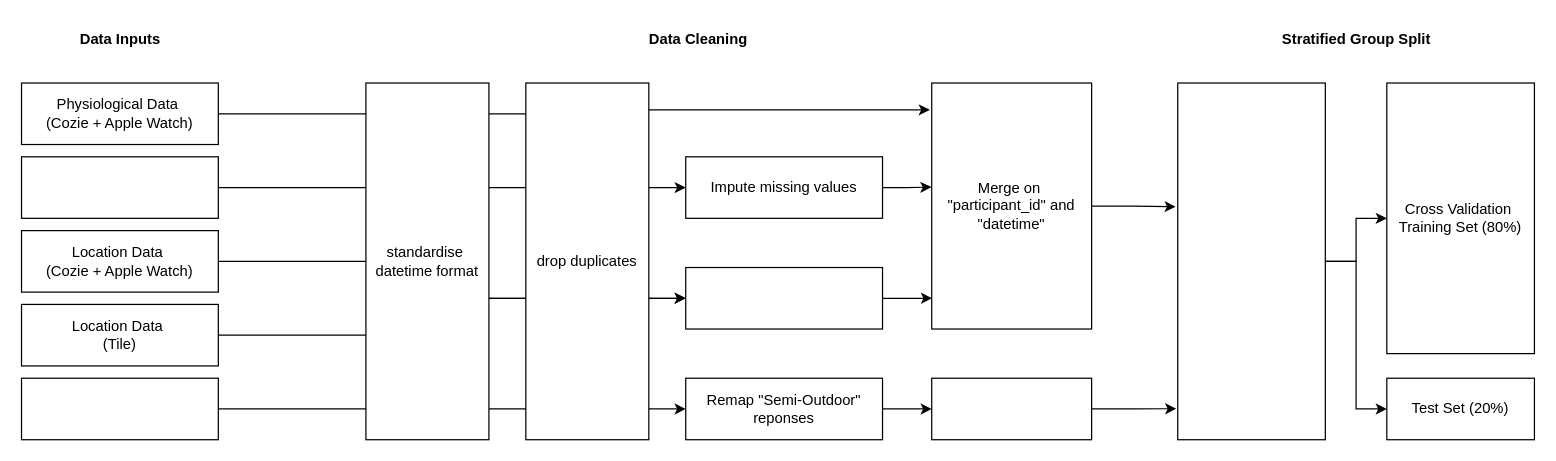
This 1556x461 diagram has some shape labels left out. Each missing label, with the centre of its shape:
"Binary Encode" belongs at (x=1011, y=408).
"Drop features Combine Location Data" belongs at (x=783, y=297).
"Environmental Data (Kestrel)" belongs at (x=119, y=187).
"Merge" belongs at (x=1250, y=261).
"Survey Response" belongs at (x=119, y=408).
